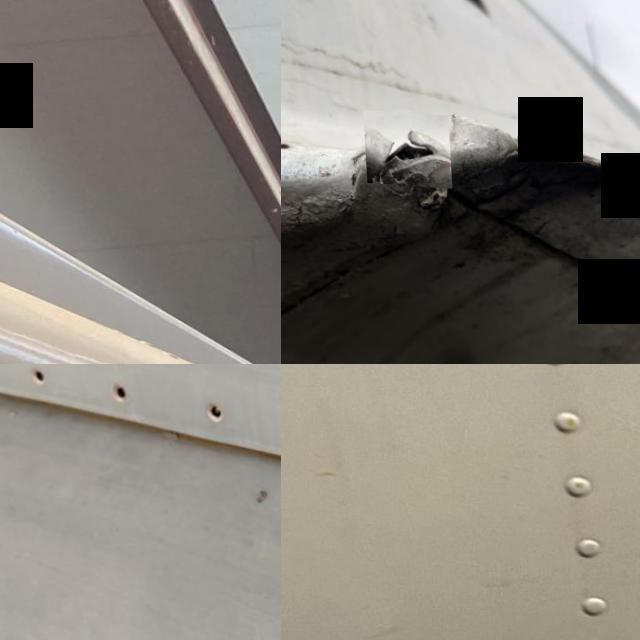Crack: (449, 78, 614, 174), (361, 106, 449, 183)
Missing_Fastener: (188, 386, 235, 432), (94, 366, 140, 410), (13, 364, 61, 396)
